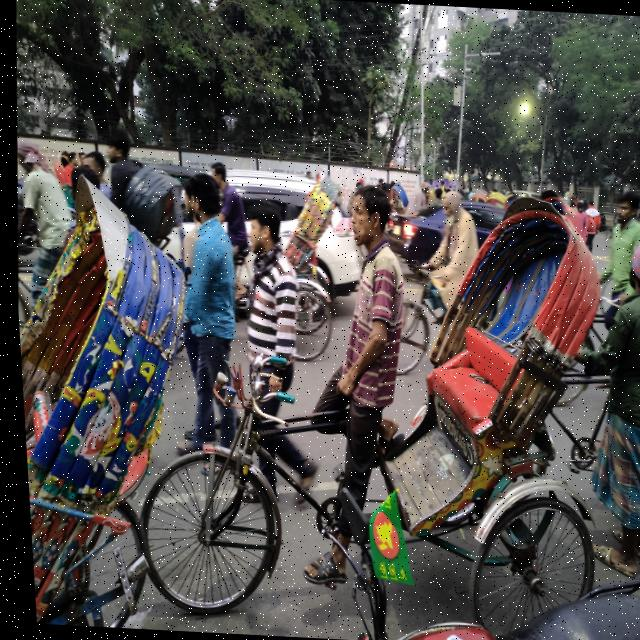rikshaw: (126, 175, 640, 640)
